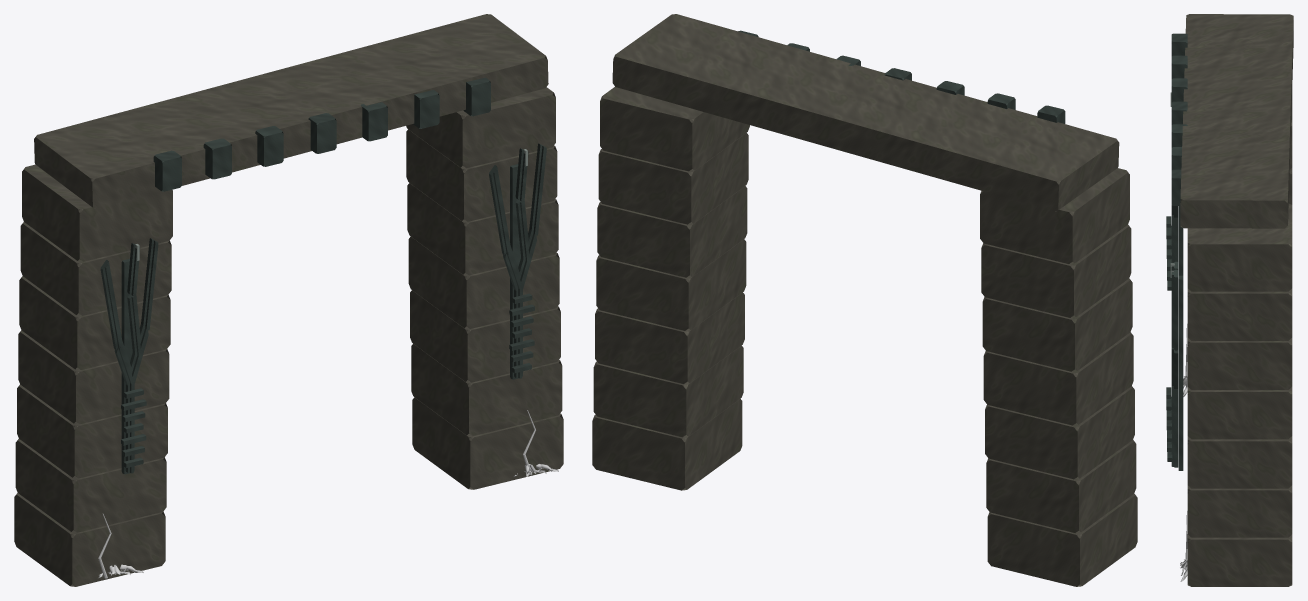
File: cataclysm_forge_threshold-lod2.gltf
3 renders of one model, left to right at view 1: azimuth 30°, elevation 25°; view 2: azimuth 150°, elevation 25°; view 3: azimuth 270°, elevation 25°, orthographic. The views are drawn at different scales.
Parts seen in each view (by area): view 1: cataclysm_forge_threshold LOD2 cataclysm_forge_threshold; view 2: cataclysm_forge_threshold LOD2 cataclysm_forge_threshold; view 3: cataclysm_forge_threshold LOD2 cataclysm_forge_threshold, cataclysm_forge_threshold LOD2 cataclysm_forge_threshold roo.
Boxes of the visible parts, left/top/right/bottom form: cataclysm_forge_threshold LOD2 cataclysm_forge_threshold: left=14, top=14, right=563, bottom=586; cataclysm_forge_threshold LOD2 cataclysm_forge_threshold: left=592, top=14, right=1137, bottom=586; cataclysm_forge_threshold LOD2 cataclysm_forge_threshold: left=1166, top=14, right=1293, bottom=586; cataclysm_forge_threshold LOD2 cataclysm_forge_threshold roo: left=1185, top=323, right=1187, bottom=569.
Size of the model in its own units: 3.53 by 2.88 by 0.8775.
